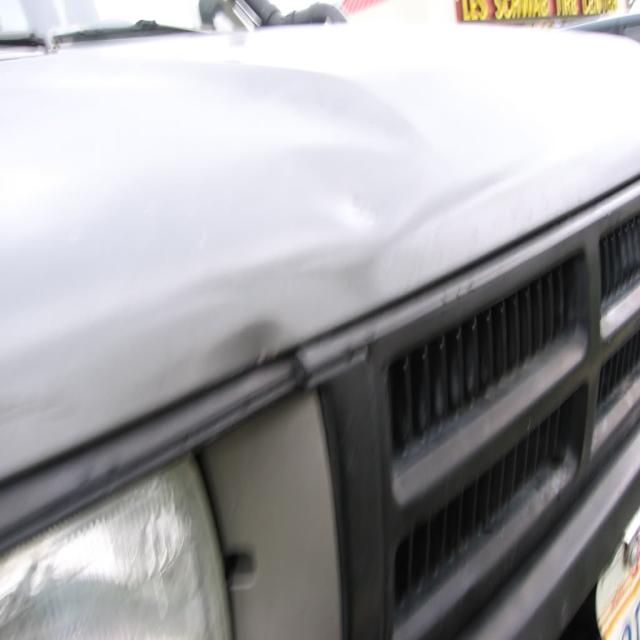dent: (262, 130, 528, 305), (191, 311, 295, 384), (193, 273, 231, 305)
